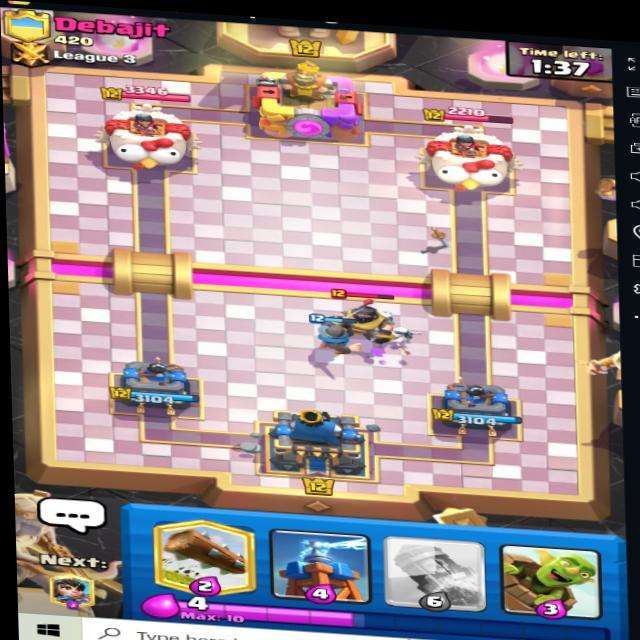mega-knight: (319, 298, 405, 355)
